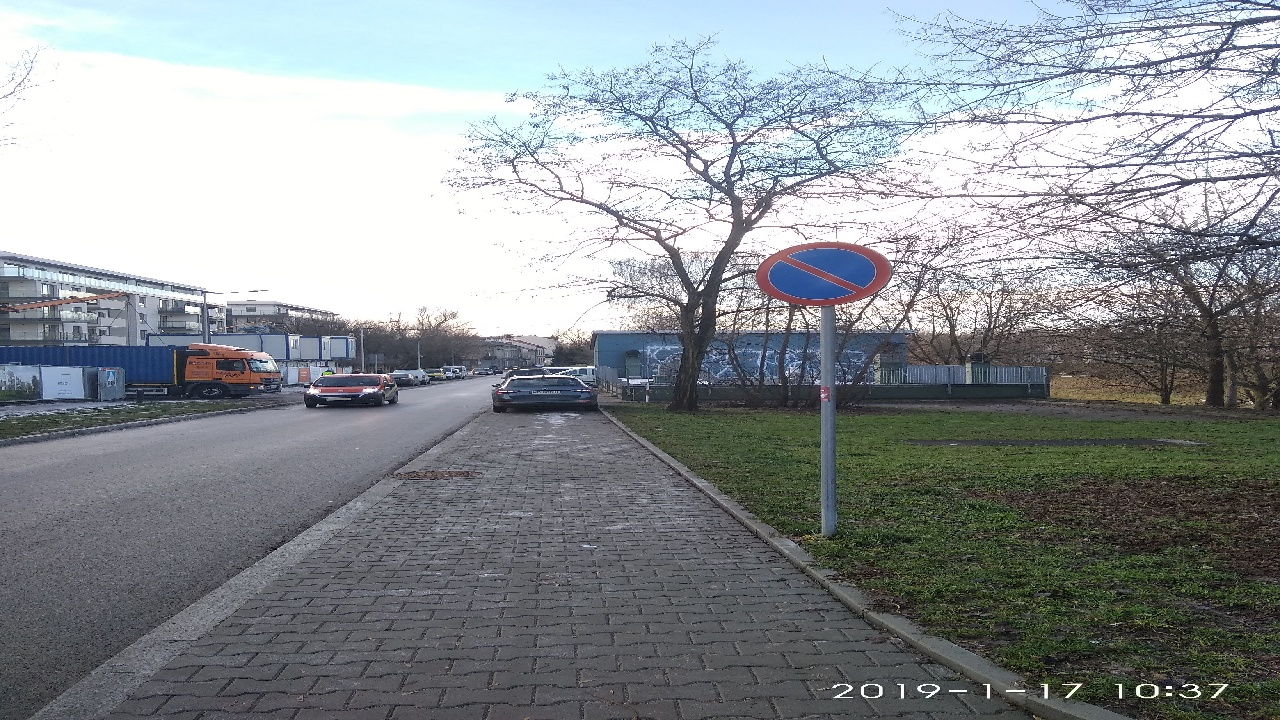B36: (744, 237, 898, 310)
